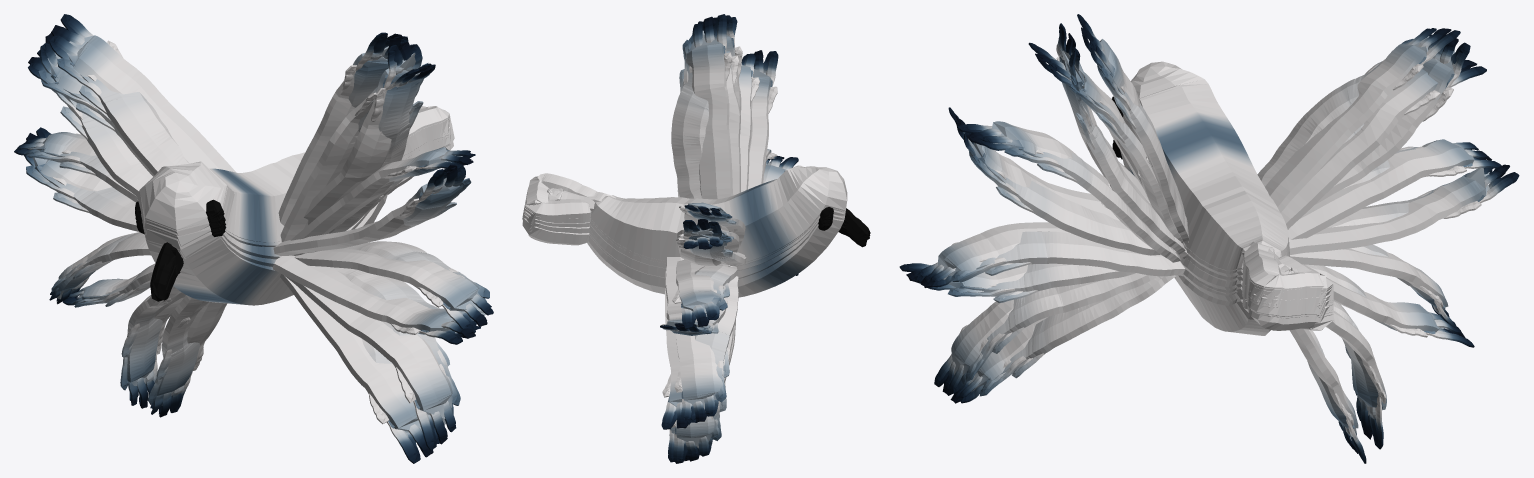
File: Bird_1.fbx
3 views of the same model, side by side, from view 1: azimuth 30°, elevation 25°; view 2: azimuth 150°, elevation 25°; view 3: azimuth 270°, elevation 25° (orthographic). The views are drawn at different scales.
Visible parts, largest first — view 1: Bird-body1; view 2: Bird-body1; view 3: Bird-body1.
Part boxes in pixels (left/top/right/bottom): Bird-body1: left=14, top=14, right=493, bottom=463; Bird-body1: left=522, top=14, right=870, bottom=463; Bird-body1: left=899, top=14, right=1519, bottom=463.
Size of the model in its own units: 0.6062 by 0.7232 by 0.8389.
